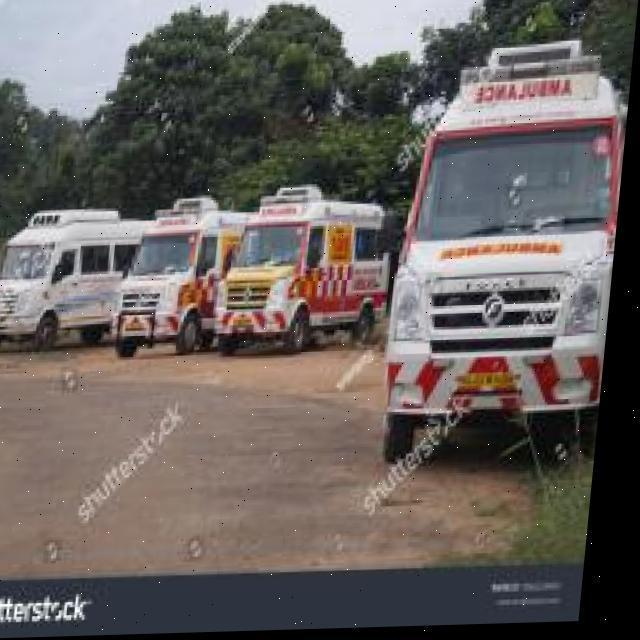Ambulance: (0, 37, 633, 490), (0, 313, 612, 580), (378, 38, 634, 473), (0, 203, 157, 357)
